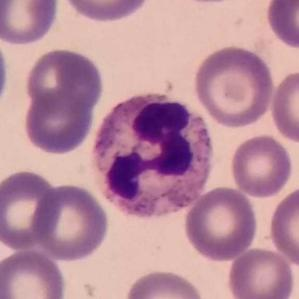Neutrophil: (85, 85, 221, 228)
RBC: (191, 42, 277, 129), (31, 181, 111, 264), (181, 184, 260, 263), (22, 46, 106, 114), (0, 167, 63, 252), (21, 89, 97, 157), (228, 132, 295, 199), (225, 245, 296, 299), (0, 246, 68, 299), (0, 0, 62, 47), (266, 183, 299, 269), (122, 267, 208, 299), (268, 68, 299, 145), (58, 0, 154, 24), (263, 0, 299, 51), (163, 0, 252, 7)
